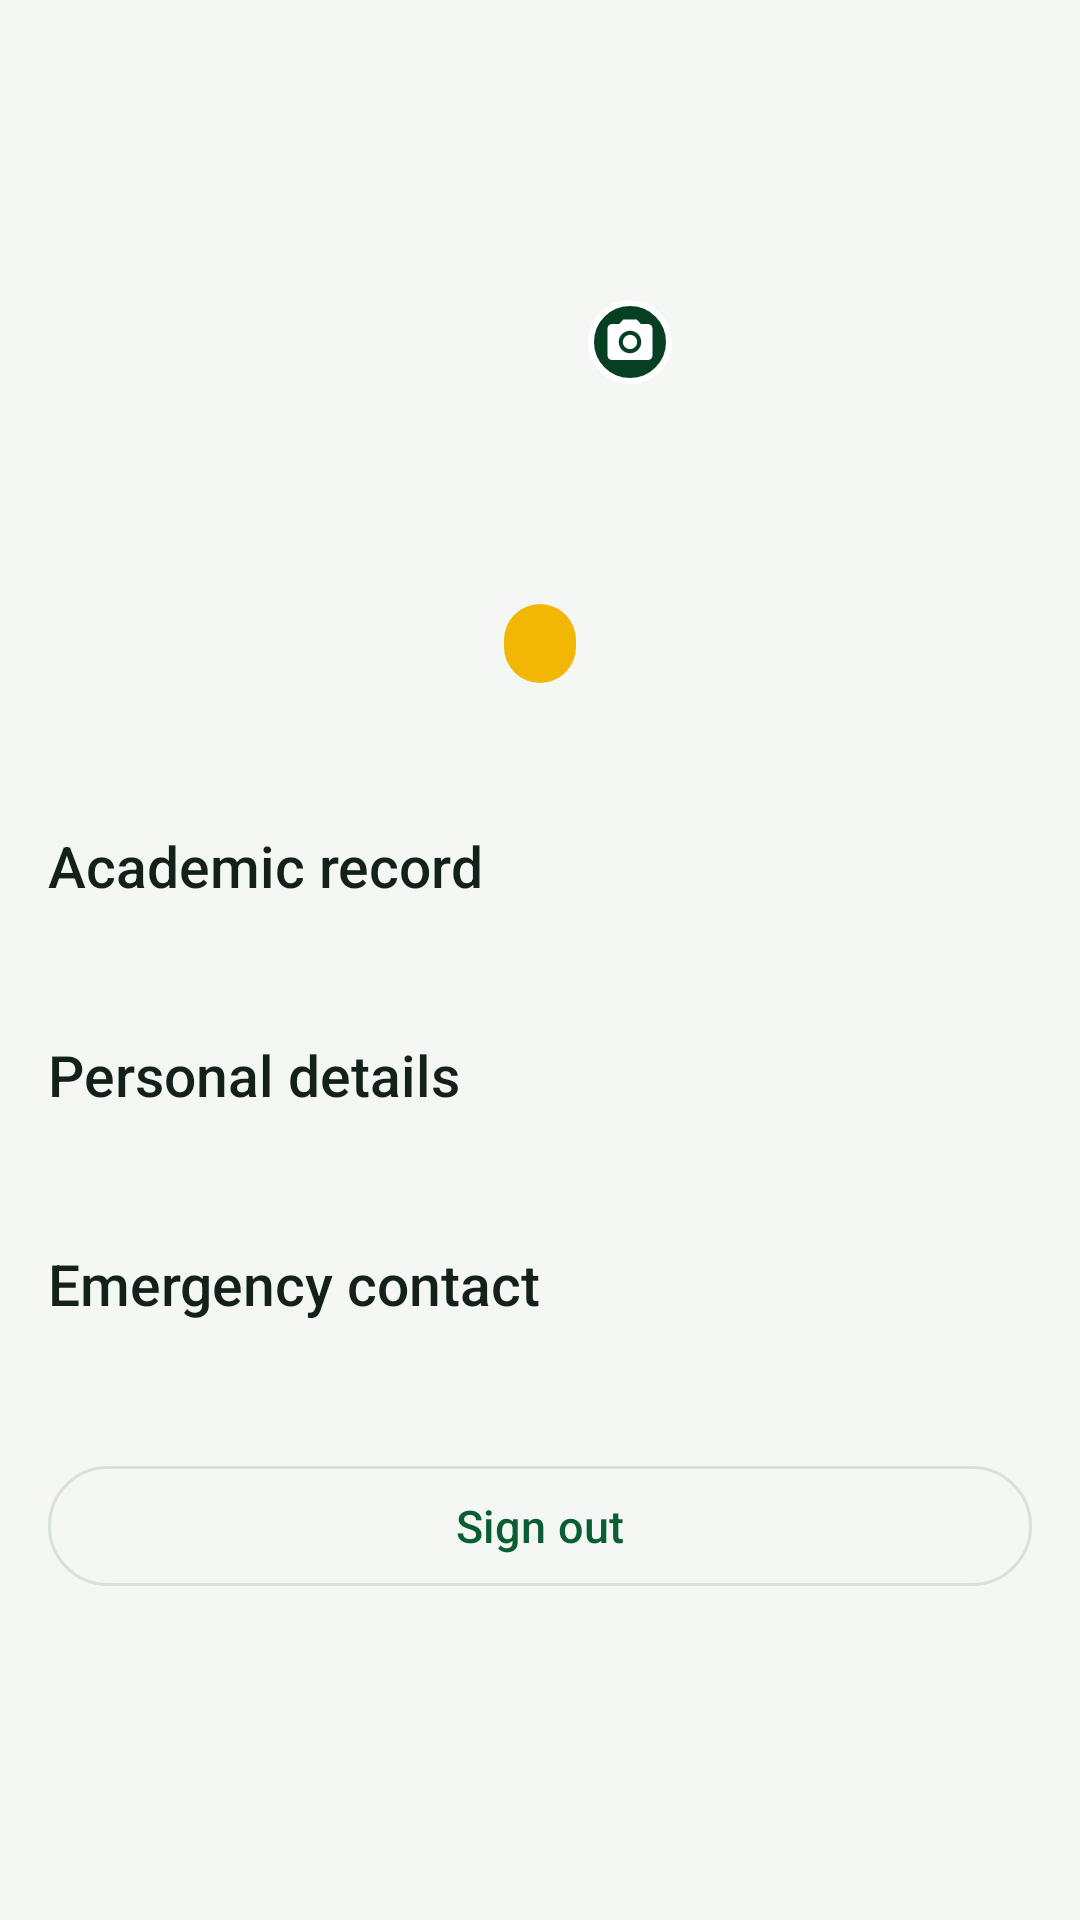

Icon bounding boxes for this 1080×1920 phone screenshot, format (x1, y1, x2, y2):
Change profile picture: (594, 306, 666, 378)
